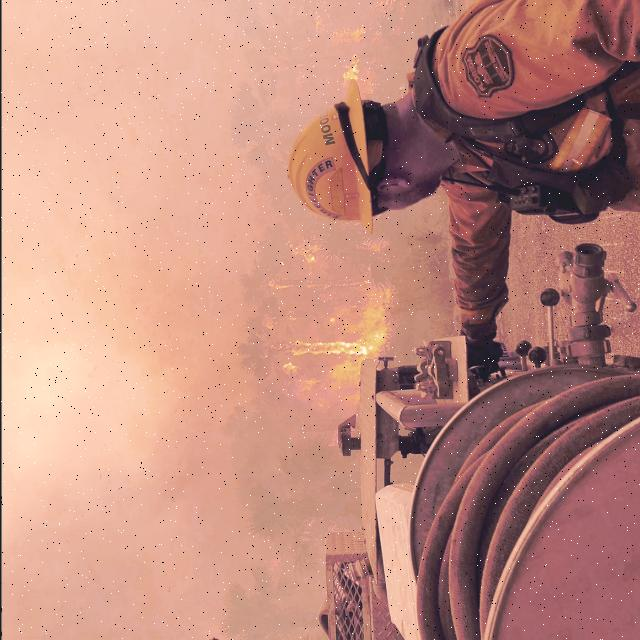api: (282, 311, 392, 399)
